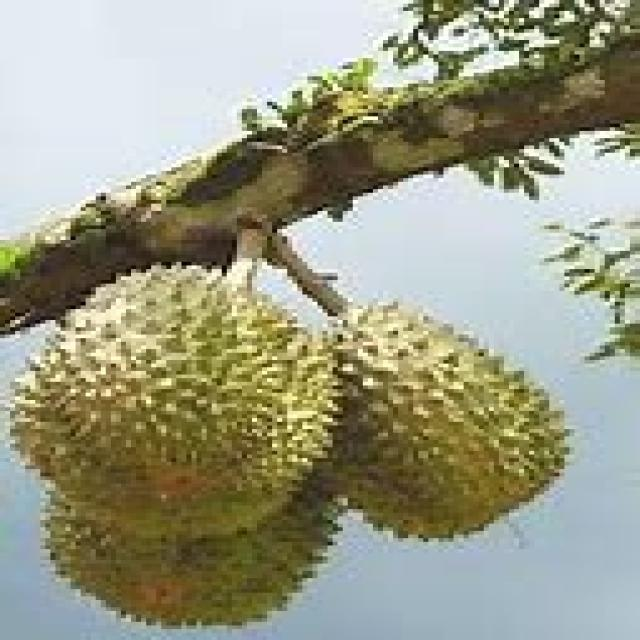mature: (14, 268, 338, 538), (336, 304, 566, 537)
